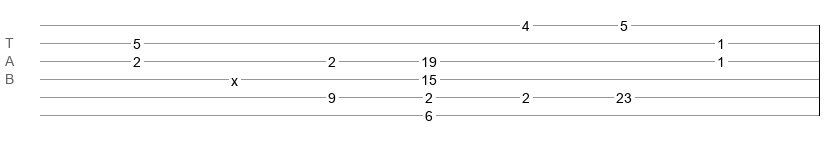1: (717, 36, 725, 46), (717, 54, 725, 64)
15: (421, 72, 437, 82)
19: (421, 54, 437, 64)
2: (133, 54, 141, 64), (328, 54, 336, 64), (425, 90, 433, 100), (522, 90, 530, 100)
23: (616, 90, 632, 100)
4: (522, 18, 530, 28)
5: (133, 36, 141, 46), (620, 18, 628, 28)
6: (425, 108, 433, 118)
9: (328, 90, 336, 100)
x: (231, 73, 238, 81)
